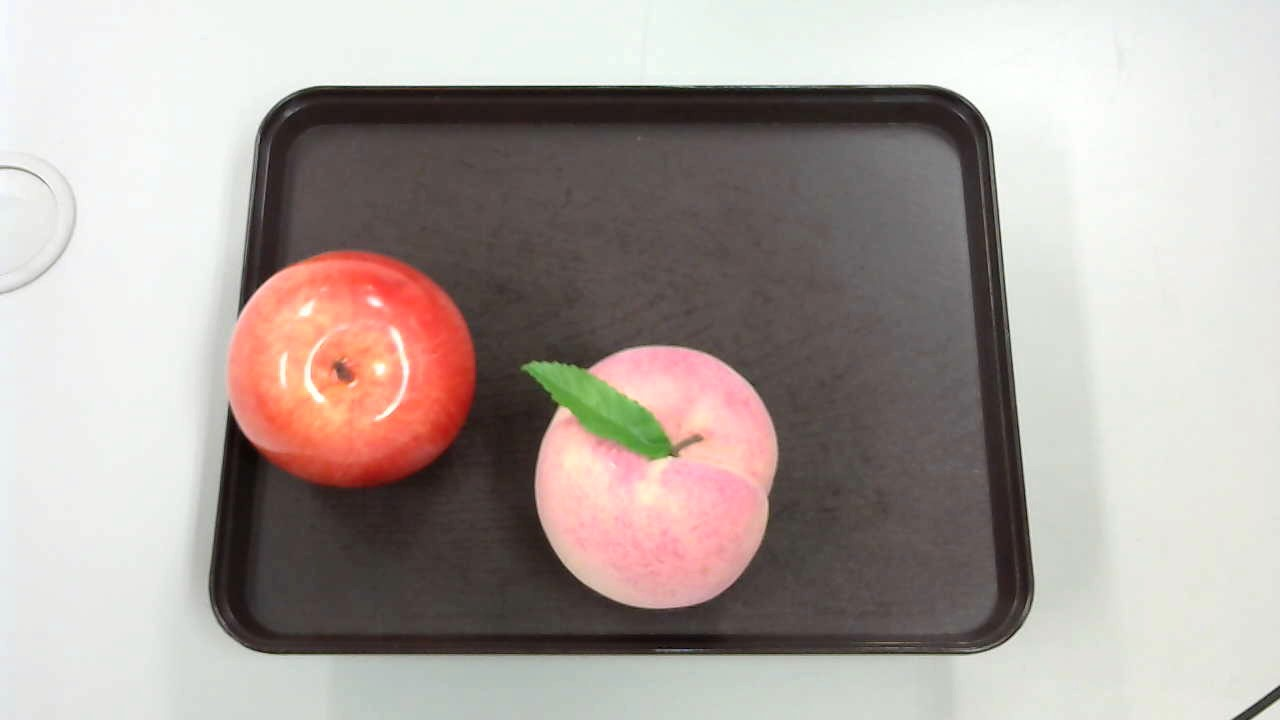peach: (517, 341, 782, 613)
red apple: (230, 249, 475, 495)
